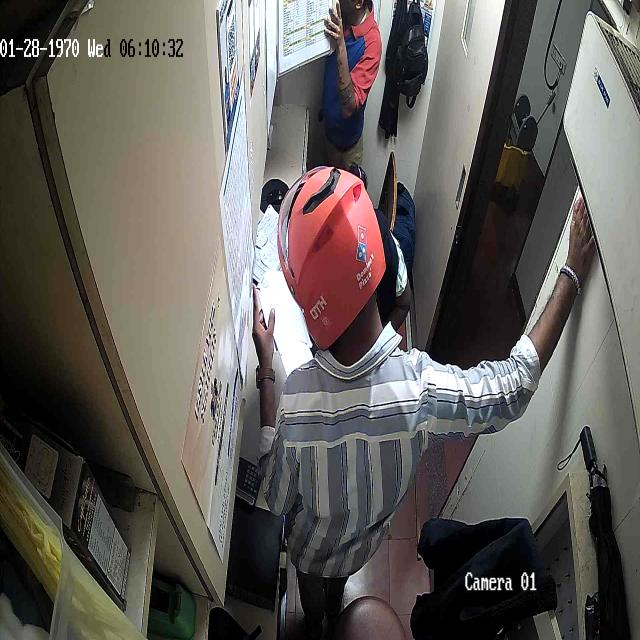helmet: (277, 165, 385, 374)
